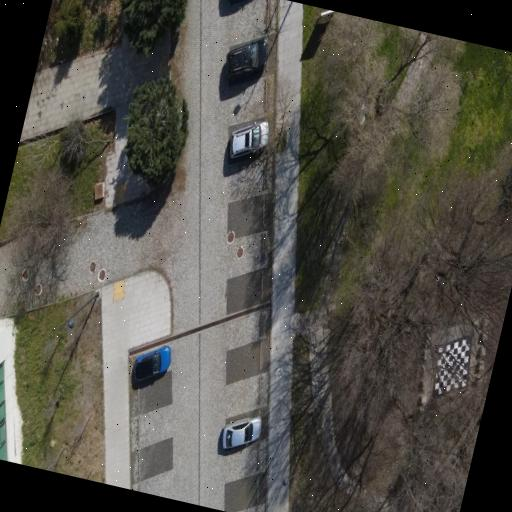car: (226, 38, 267, 81), (229, 121, 268, 157), (132, 345, 170, 381), (222, 415, 260, 447), (228, 0, 249, 4)
